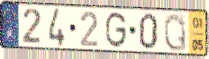0: (138, 12, 160, 51)
2: (21, 7, 44, 46), (79, 10, 99, 48)
4: (48, 7, 67, 49)
G: (104, 10, 128, 49)
Q: (163, 12, 188, 53)
